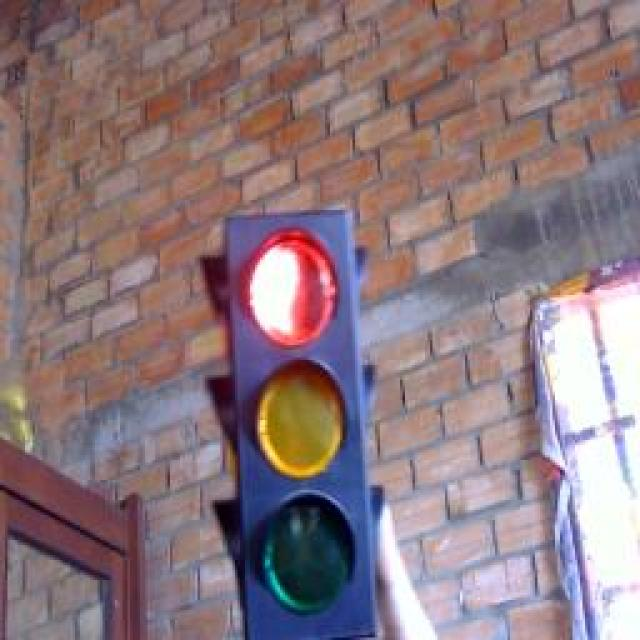-: (234, 222, 356, 355)
